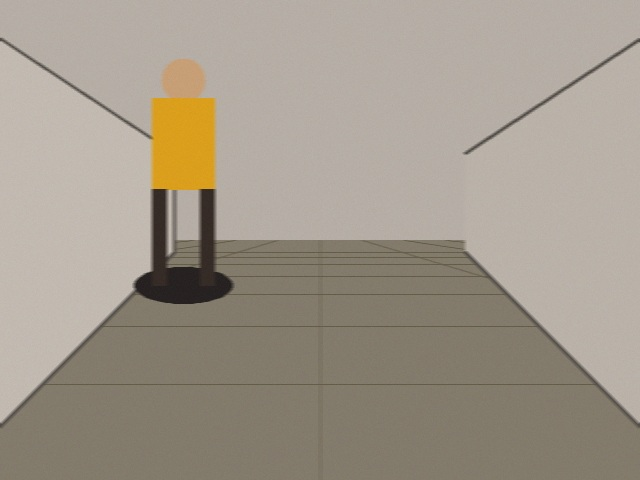person: (138, 58, 228, 285)
